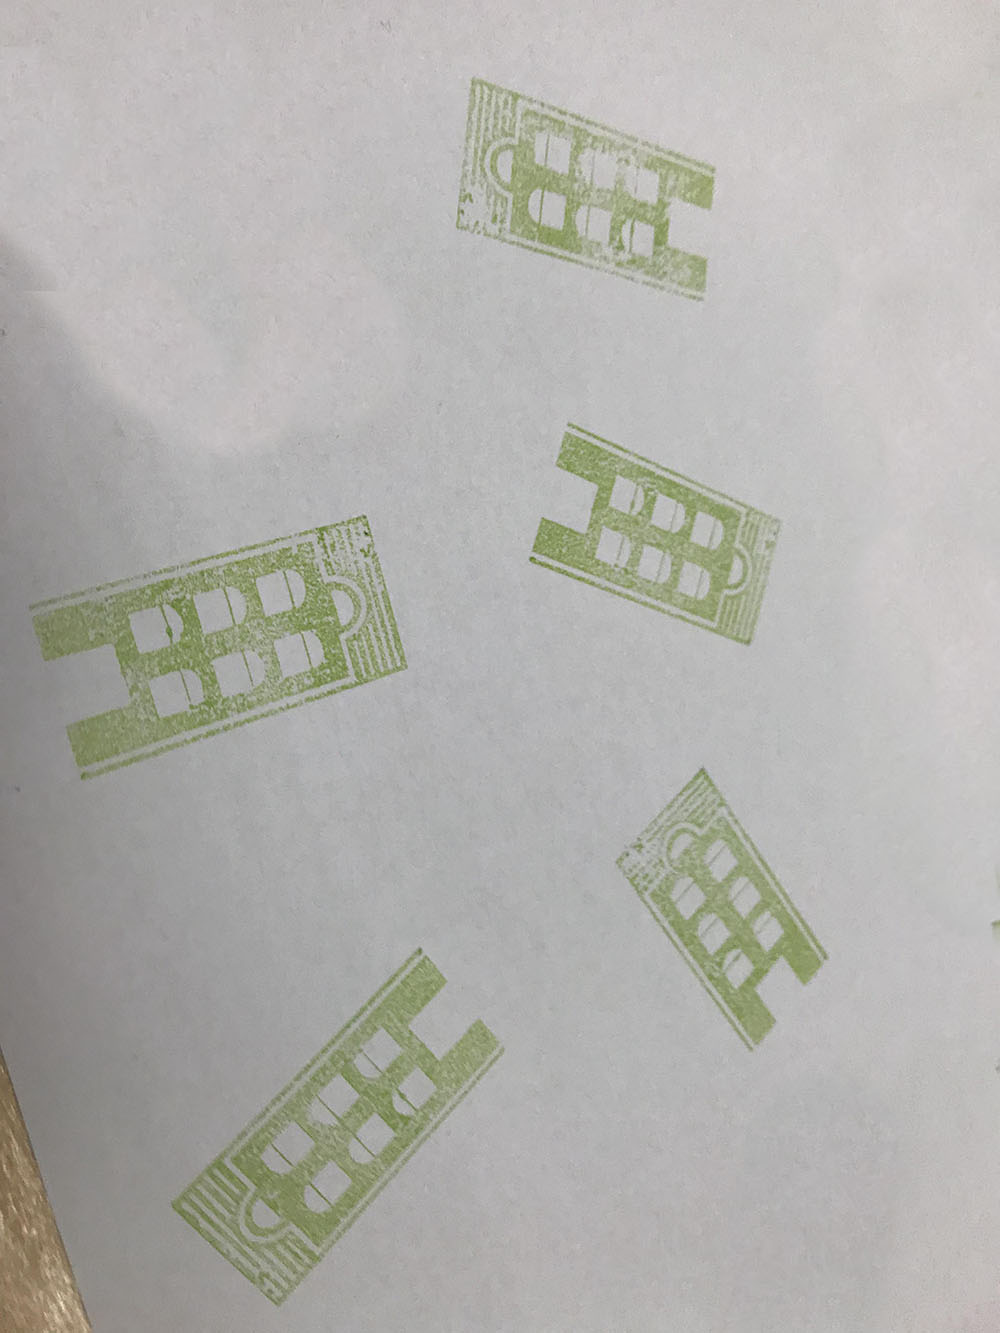build: (153, 933, 524, 1311), (488, 399, 800, 675), (595, 743, 843, 1072), (424, 71, 732, 315)
car: (1, 494, 420, 819)
